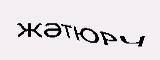Ж: (13, 19, 42, 37)
Р: (98, 28, 118, 48)
Т: (60, 21, 74, 39)
Ч: (117, 31, 152, 49)
Ю: (73, 24, 100, 45)
Ә: (43, 20, 62, 39)
